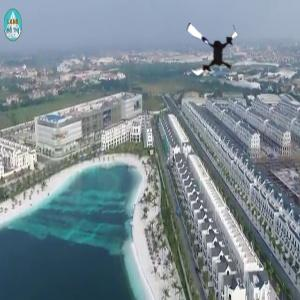drone: (179, 16, 246, 83)
